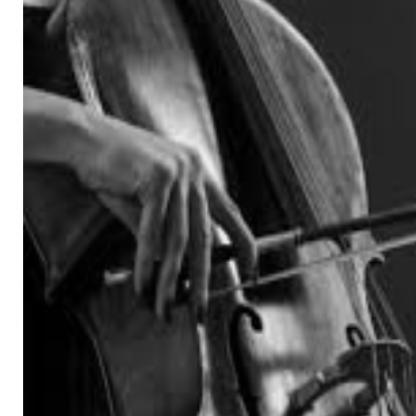bad: (101, 108, 280, 334)
